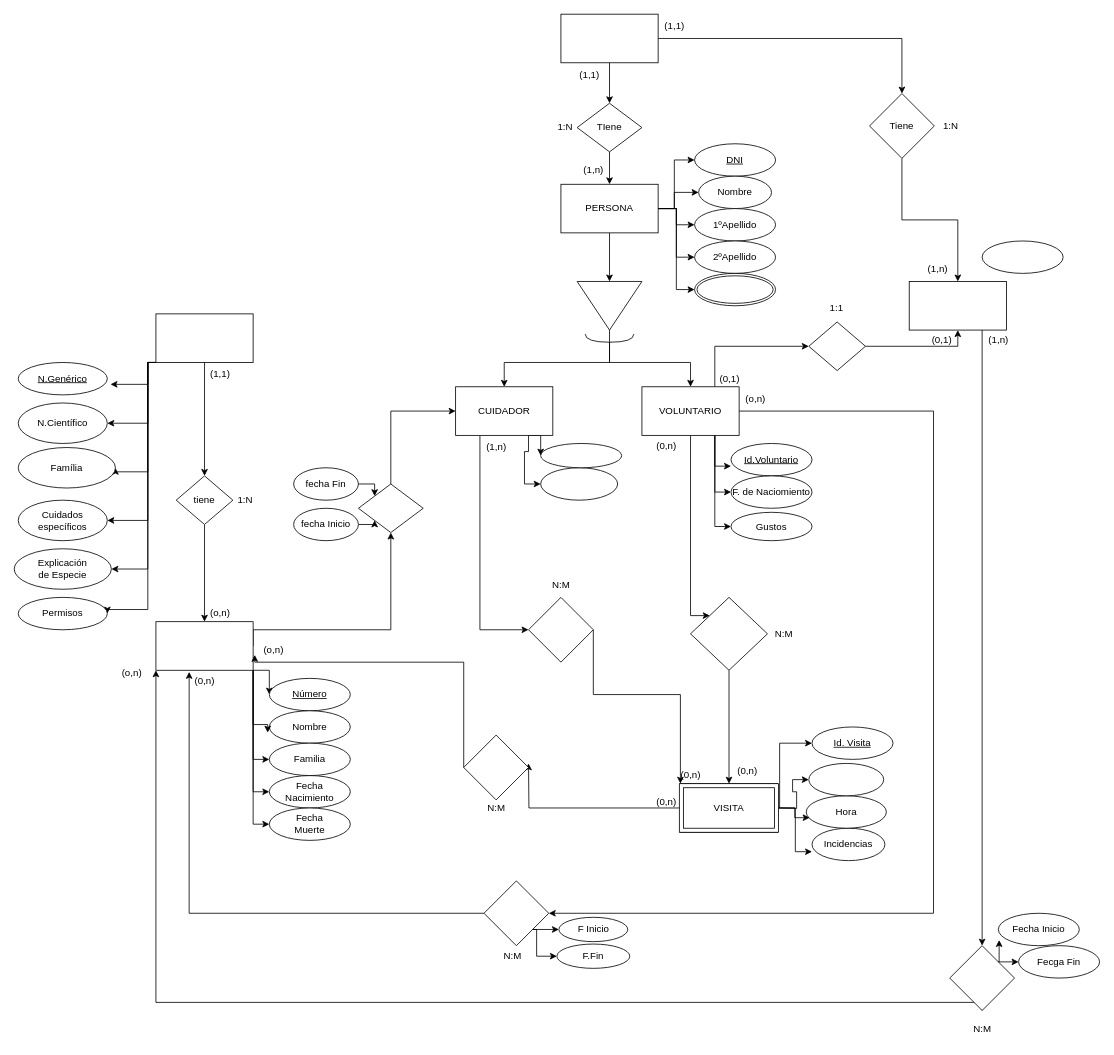
Image size: 1114x1055. Some labels were removed from this diagram. Each missing label, with the centre of its shape:
"Acondiciona" goes at point (836, 346).
"certificado" goes at point (579, 483).
"Cuida" goes at point (516, 913).
"Día" goes at point (846, 779).
"EJEMPLAR" goes at point (204, 645).
"Es hecha" goes at point (496, 767).
"ESPECIES" goes at point (204, 337).
"Id. cuidador" goes at point (581, 455).
"Id.Zona" goes at point (1022, 256).
"IS A" goes at point (609, 305).
"Pertenece" goes at point (982, 977).
"se asigna" goes at point (390, 508).
"Se recompensa" goes at point (728, 633).
"Supervisa" goes at point (560, 629).
"Teléfonos" goes at point (735, 289).
"ZONA" goes at point (957, 305).
"ZOO" goes at point (609, 38).
